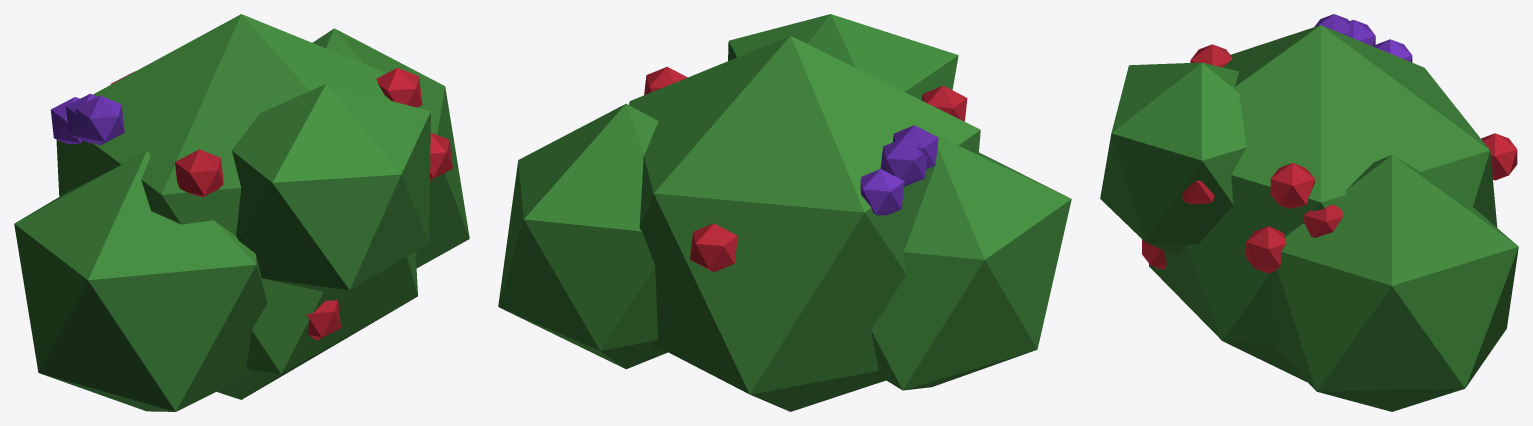
The model's file is berry_bush.glb.
3 renders of one model, left to right at view 1: azimuth 30°, elevation 25°; view 2: azimuth 150°, elevation 25°; view 3: azimuth 270°, elevation 25°, orthographic. The views are drawn at different scales.
Visible parts, largest first — view 1: berry_bush; view 2: berry_bush; view 3: berry_bush.
Part boxes in pixels (x1,y1,x2,y2): berry_bush: [14, 14, 469, 411]; berry_bush: [498, 14, 1071, 411]; berry_bush: [1100, 14, 1518, 411].
Bounding box in the file's own units: 2.15 × 1.69 × 1.76.
